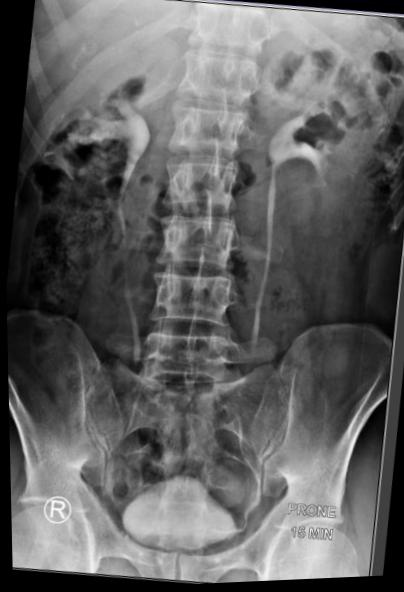bladder: (99, 451, 258, 567)
vertebrae: (163, 99, 249, 164)
